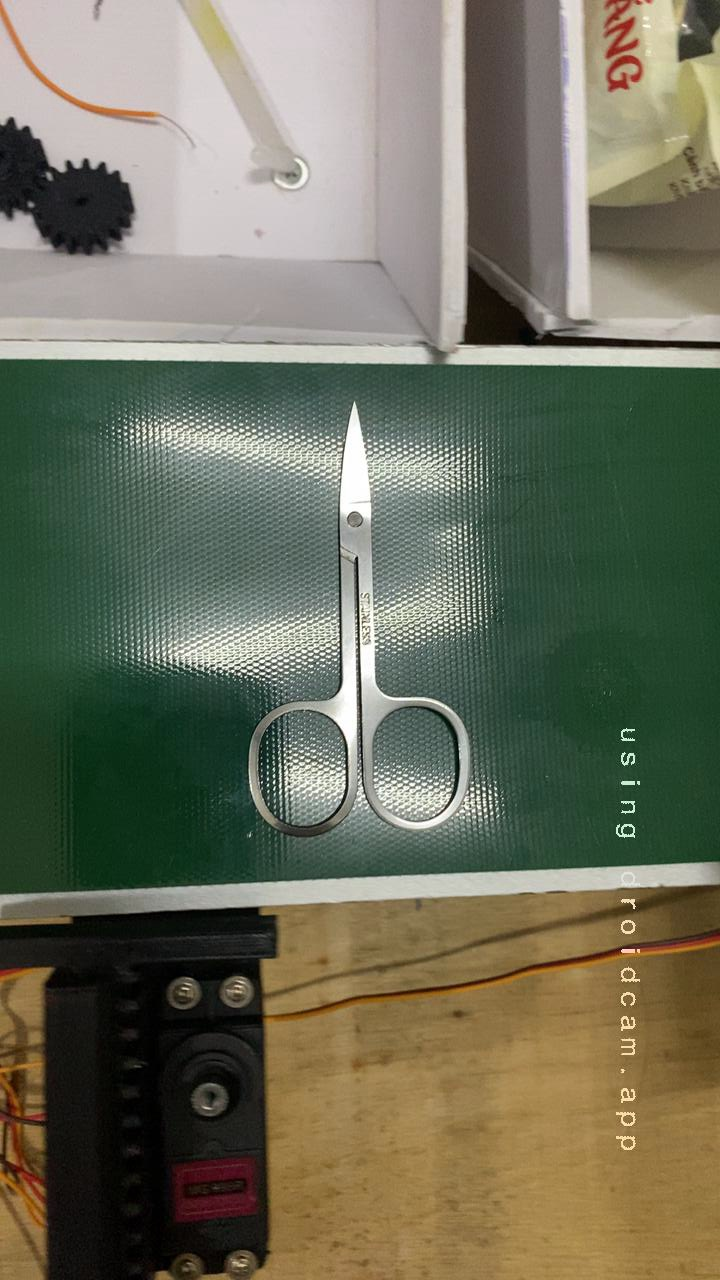scissor: (224, 390, 491, 840)
